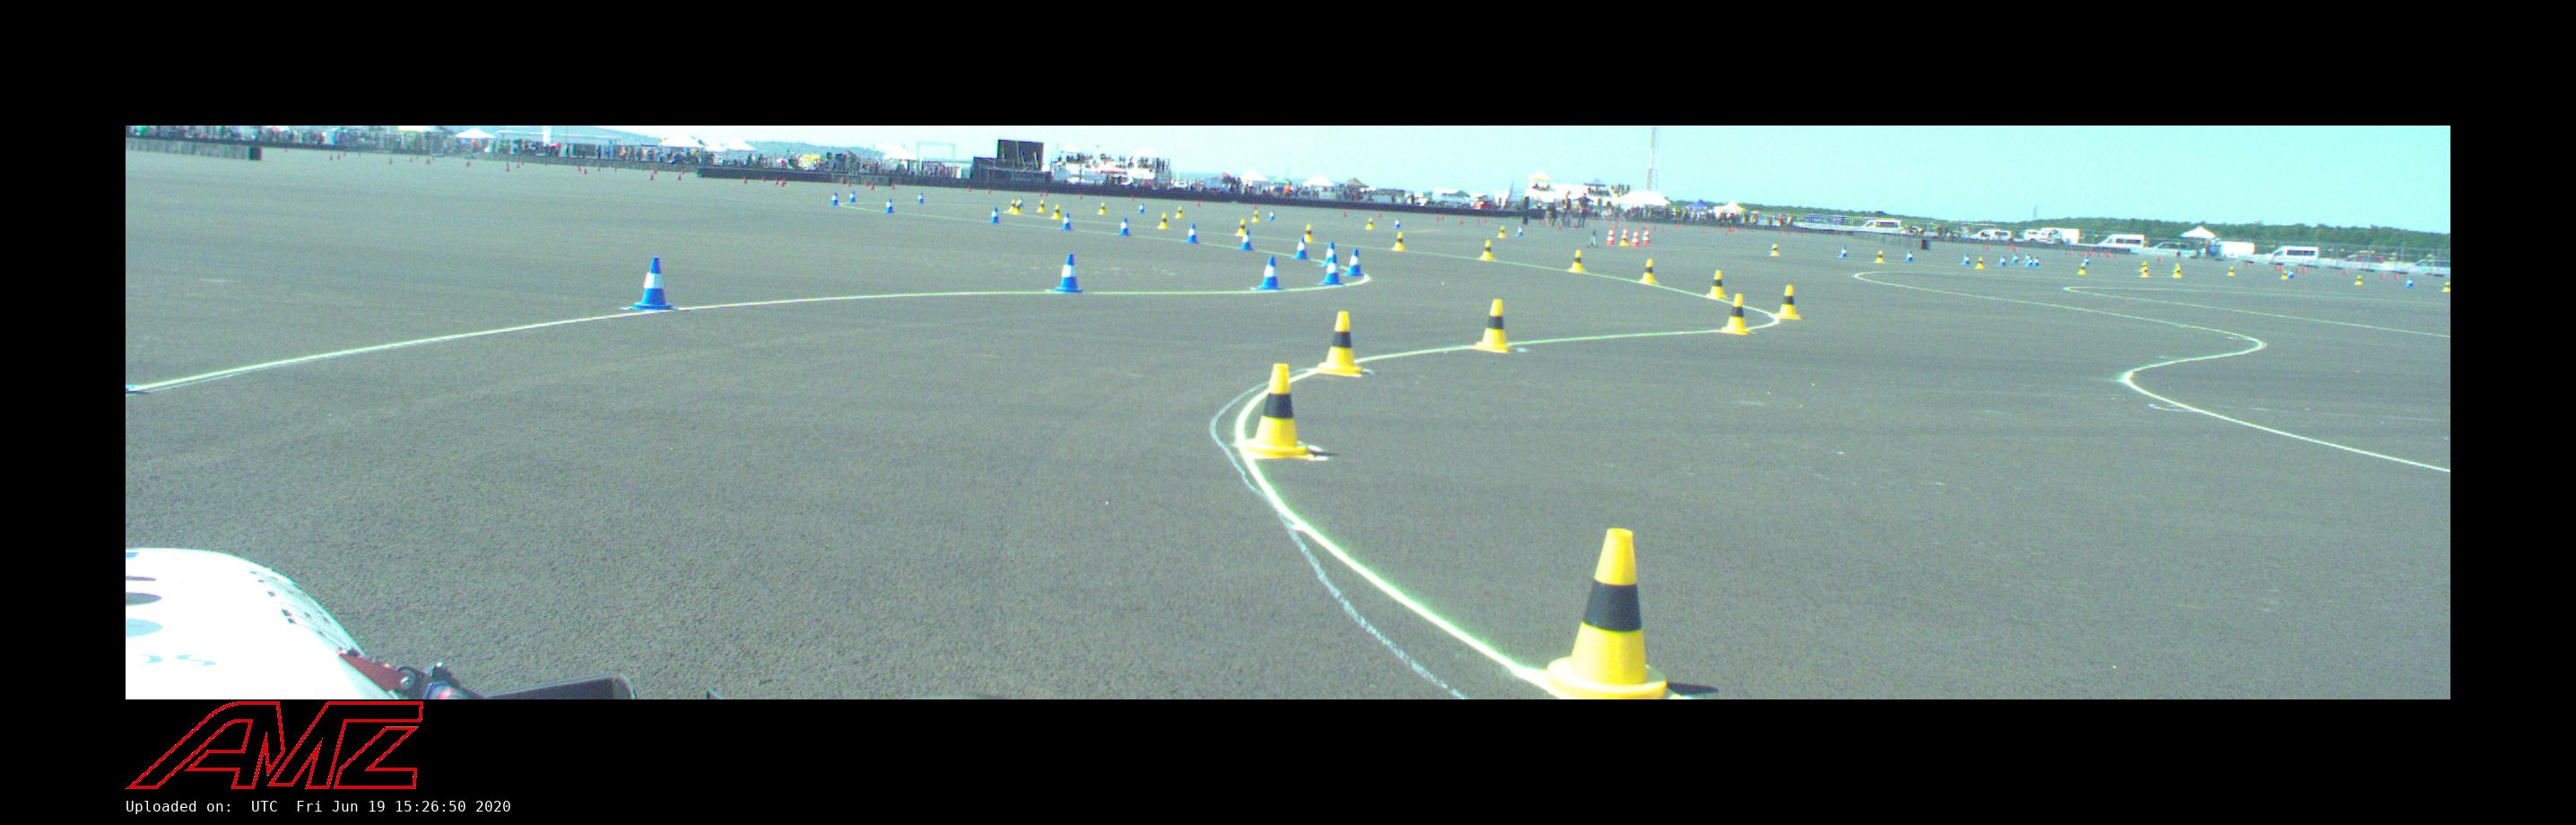blue_cone: (633, 258, 672, 310), (1053, 254, 1083, 294), (1256, 256, 1283, 291), (1318, 255, 1344, 286), (1344, 248, 1363, 276), (1320, 241, 1339, 268), (1292, 237, 1310, 261), (1237, 230, 1256, 251), (1184, 222, 1198, 243), (1059, 213, 1073, 230), (1118, 218, 1130, 237), (989, 206, 999, 223), (883, 198, 894, 213), (829, 192, 838, 205), (1839, 247, 1849, 258), (1904, 251, 1914, 262), (917, 192, 926, 204), (1998, 255, 2007, 266), (1962, 254, 1971, 265), (1393, 217, 1401, 229), (849, 190, 857, 203), (2011, 254, 2020, 264), (1137, 203, 1145, 213), (1516, 226, 1524, 237), (2033, 256, 2041, 268), (2405, 278, 2413, 288), (1017, 196, 1023, 208), (2024, 253, 2032, 263), (1268, 210, 1275, 221), (2083, 256, 2090, 265), (2288, 269, 2294, 279), (2027, 257, 2033, 267)
large_orange_cone: (1641, 228, 1651, 245), (1631, 229, 1640, 247), (1621, 226, 1629, 244), (1606, 227, 1614, 245)
yellow_cone: (1524, 528, 1683, 699), (1241, 364, 1314, 458), (1318, 312, 1362, 375), (1476, 300, 1512, 352), (1722, 294, 1751, 334), (1775, 285, 1800, 319), (1705, 270, 1727, 299), (1639, 259, 1657, 283), (1569, 250, 1585, 272), (1478, 240, 1494, 261), (1390, 231, 1405, 251), (1235, 219, 1248, 236), (1302, 223, 1313, 241), (1158, 213, 1169, 229), (1051, 204, 1062, 220), (1874, 250, 1885, 264), (1014, 200, 1023, 214), (1975, 256, 1985, 269), (1007, 199, 1016, 213), (1771, 243, 1780, 256), (1173, 206, 1183, 218), (1497, 226, 1506, 239), (1037, 199, 1045, 213), (1619, 234, 1628, 246), (2077, 264, 2086, 274), (1098, 203, 1106, 214), (1365, 218, 1373, 230), (1251, 211, 1259, 222), (2354, 275, 2363, 285), (2226, 266, 2235, 276), (2442, 282, 2450, 291), (2140, 262, 2148, 272), (2176, 264, 2182, 275), (2142, 267, 2149, 277), (2281, 270, 2288, 280), (2174, 267, 2180, 278)
